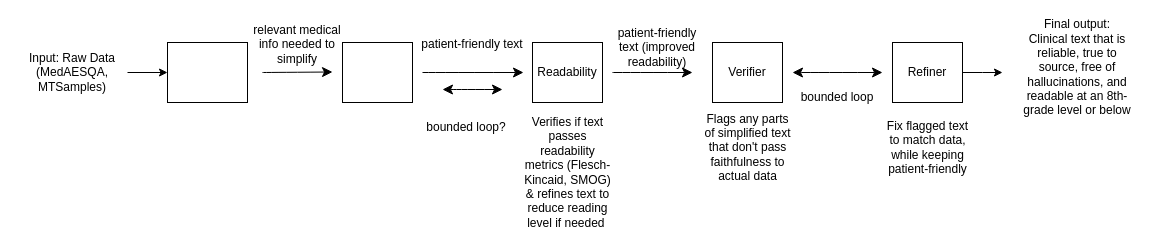
This 1149x250 diagram has some shape labels left out. The shapes that lost their labels are listed below. From the top down, each one's centre as x and y in pixels, then its label:
point (207, 72): Extractor
point (377, 72): Simplifer
